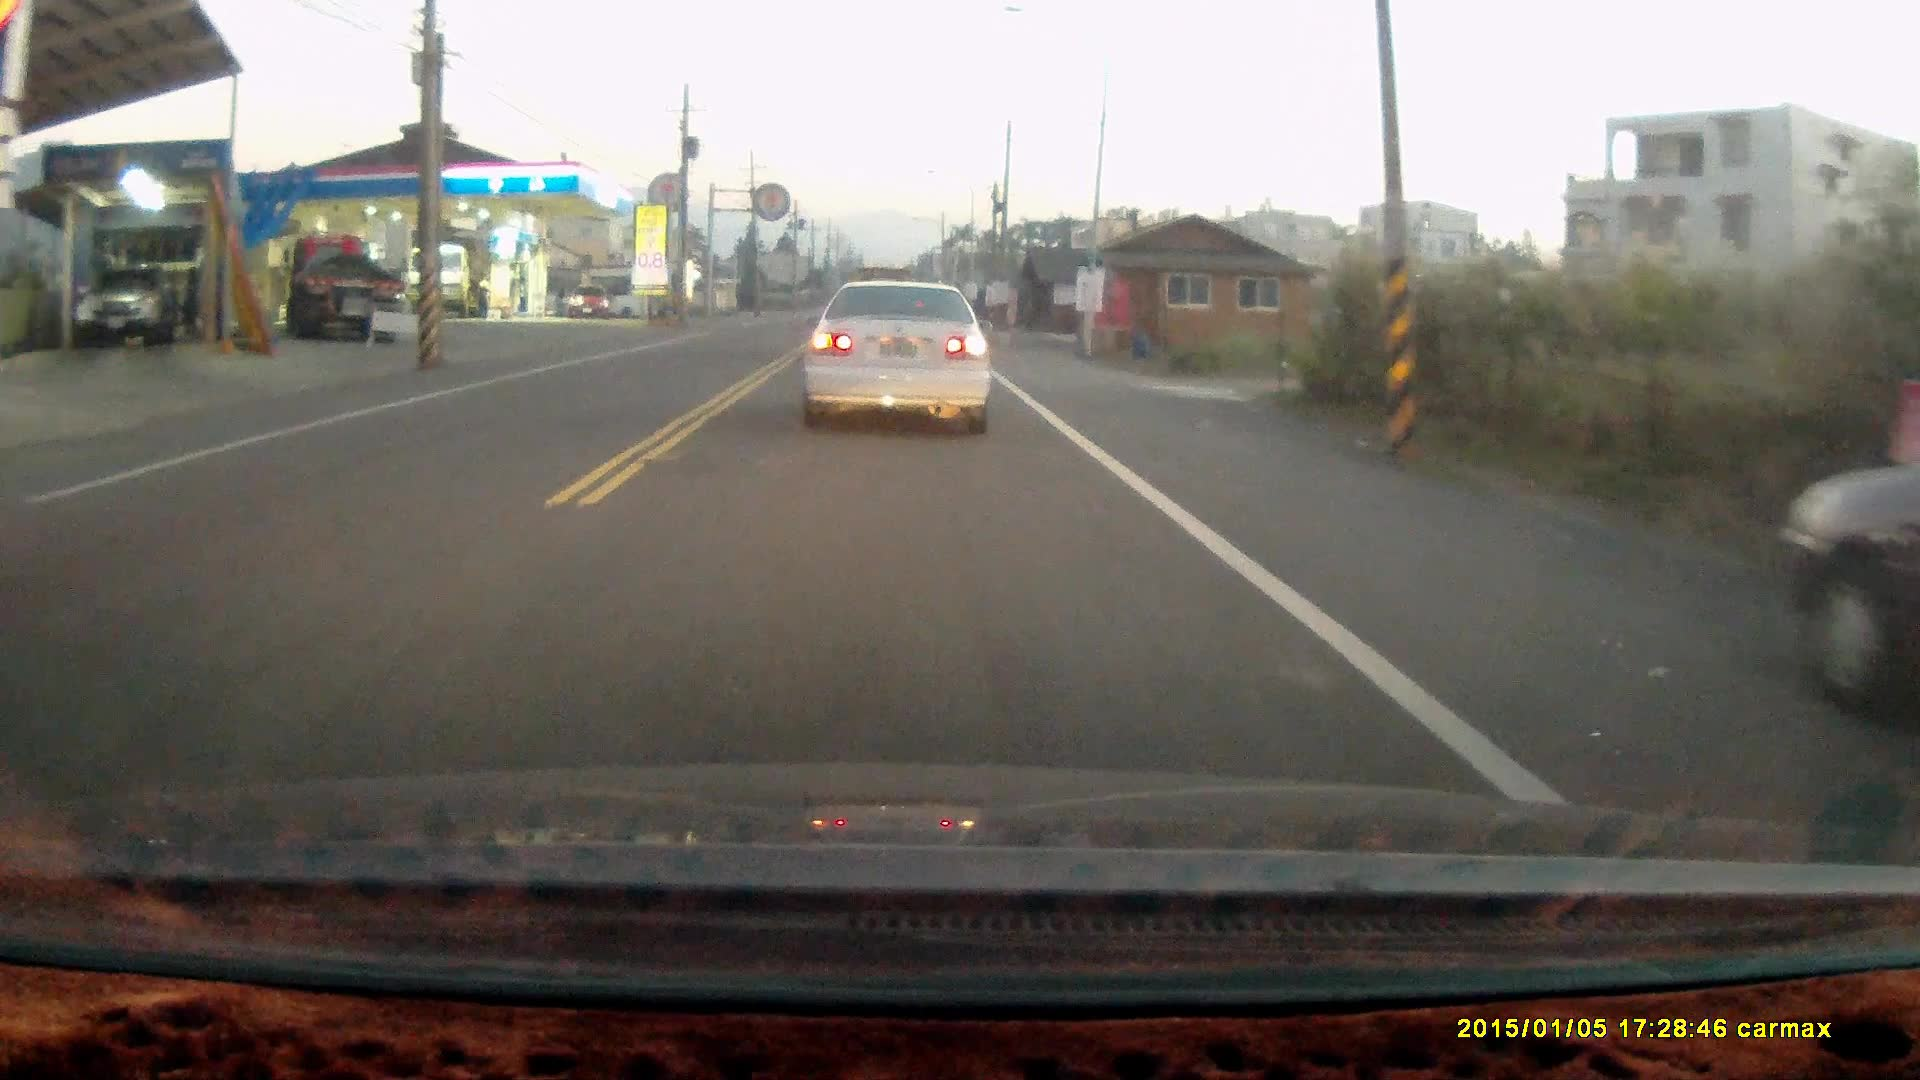pedestrian: (474, 272, 494, 316)
vehicle: (1782, 461, 1920, 719), (795, 287, 995, 448), (282, 241, 406, 350), (400, 236, 487, 321), (569, 286, 612, 319)
